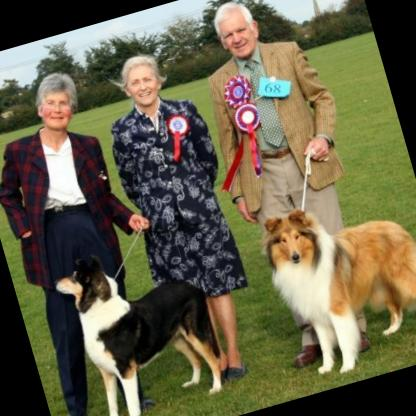collie: (250, 177, 416, 387)
